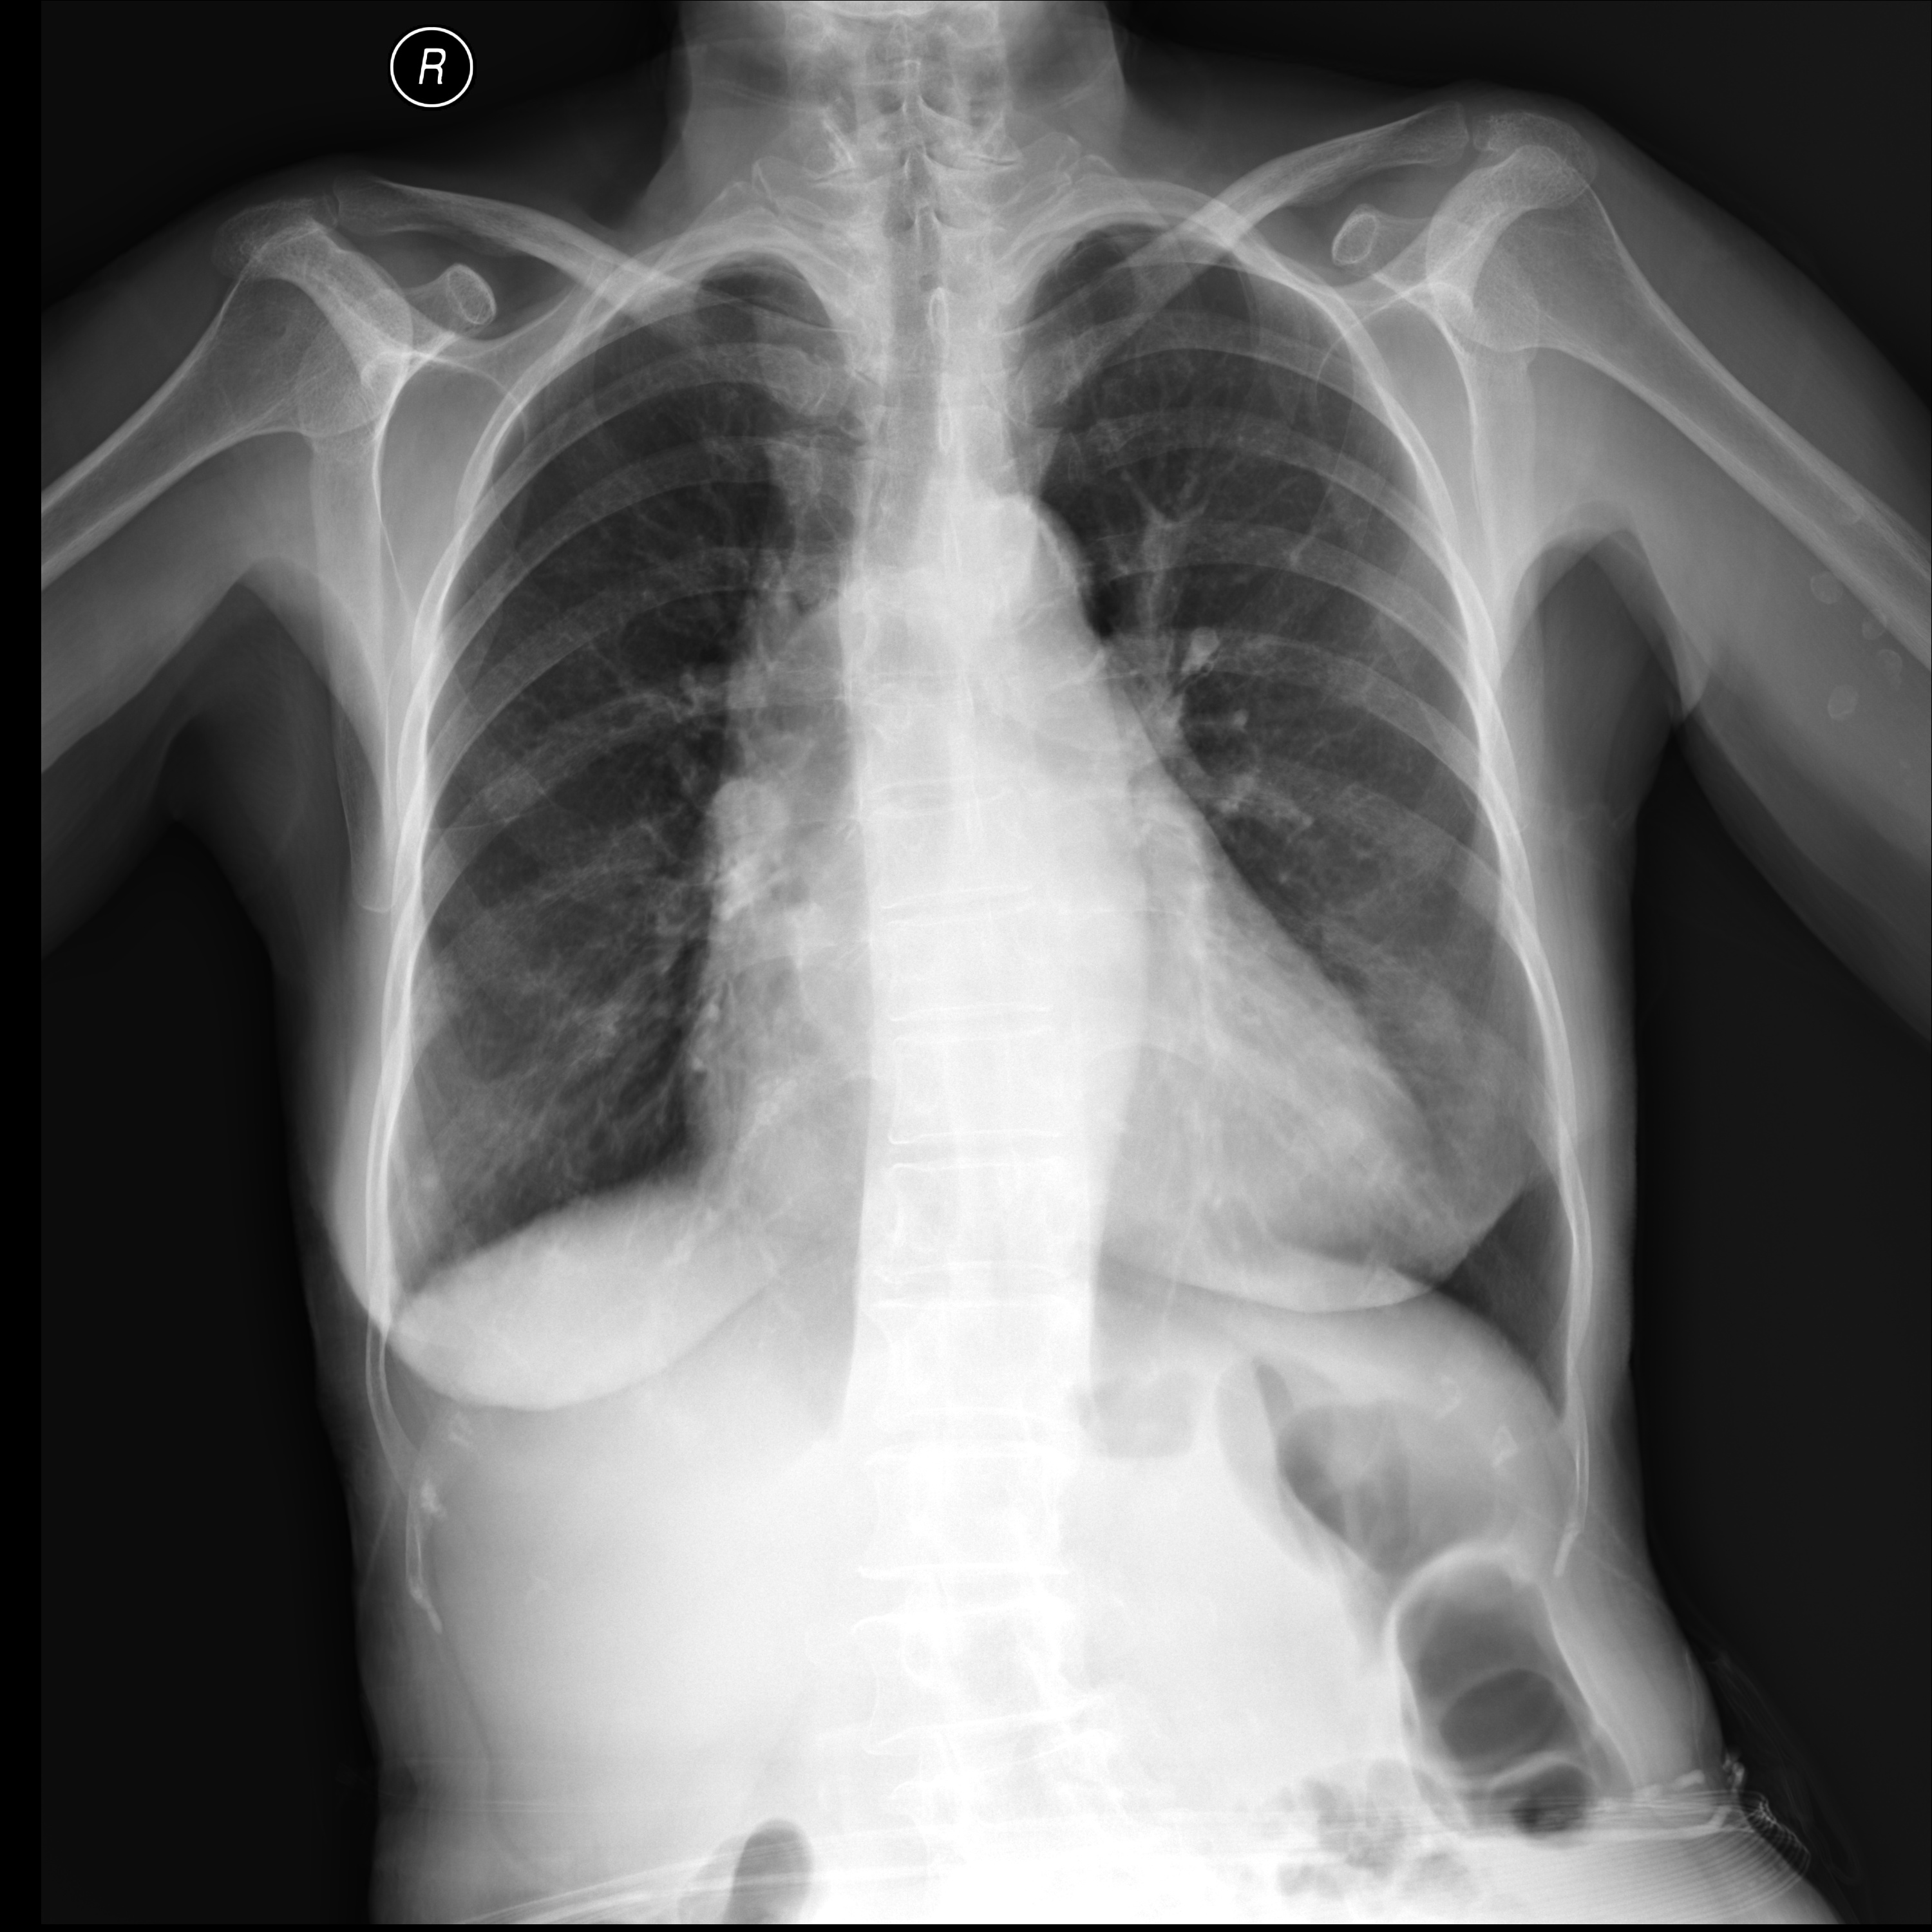nodule: (370, 1125, 481, 1237)
